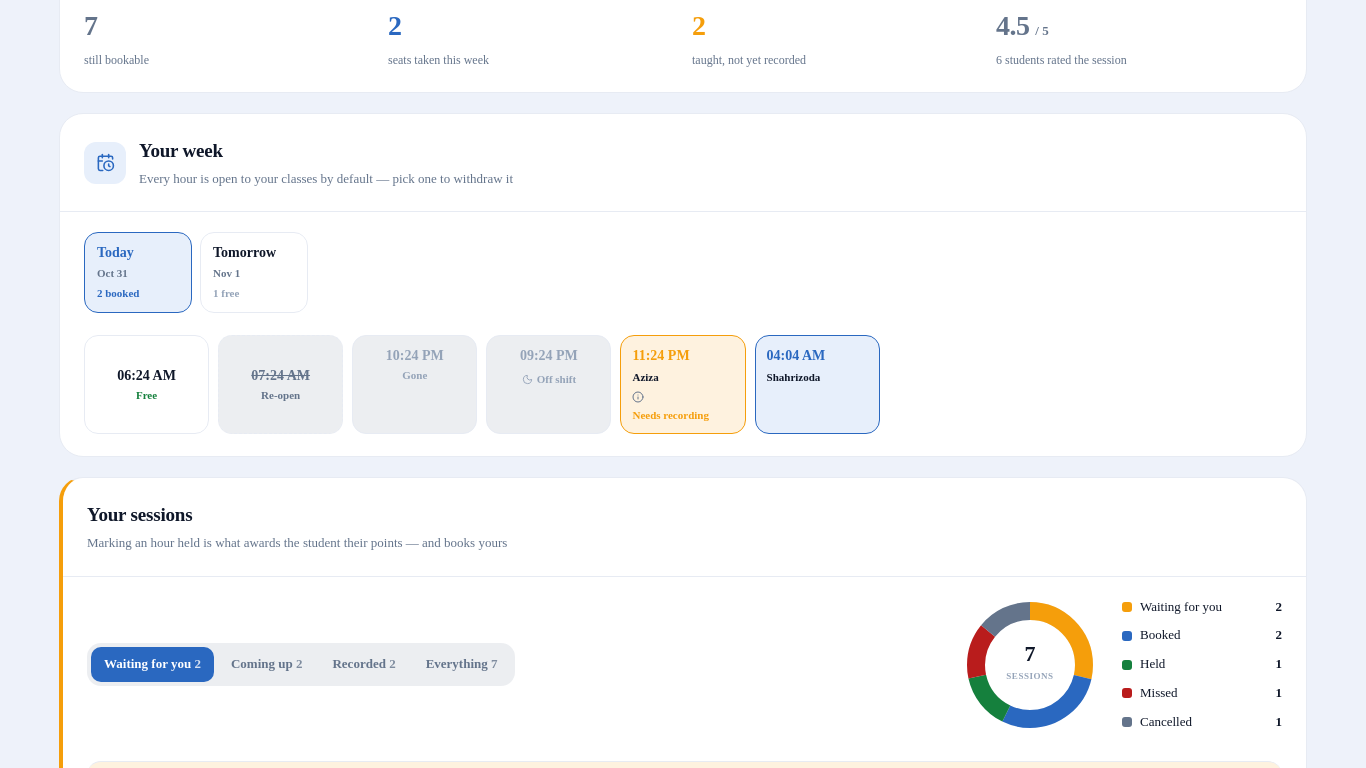
the teacher's week › asks before withdrawing an hour, because withdrawing cancels its bookings
(page scrolled)
Click the button "06:24 AM Free" at coordinates (147, 385), box [84, 335, 209, 434]
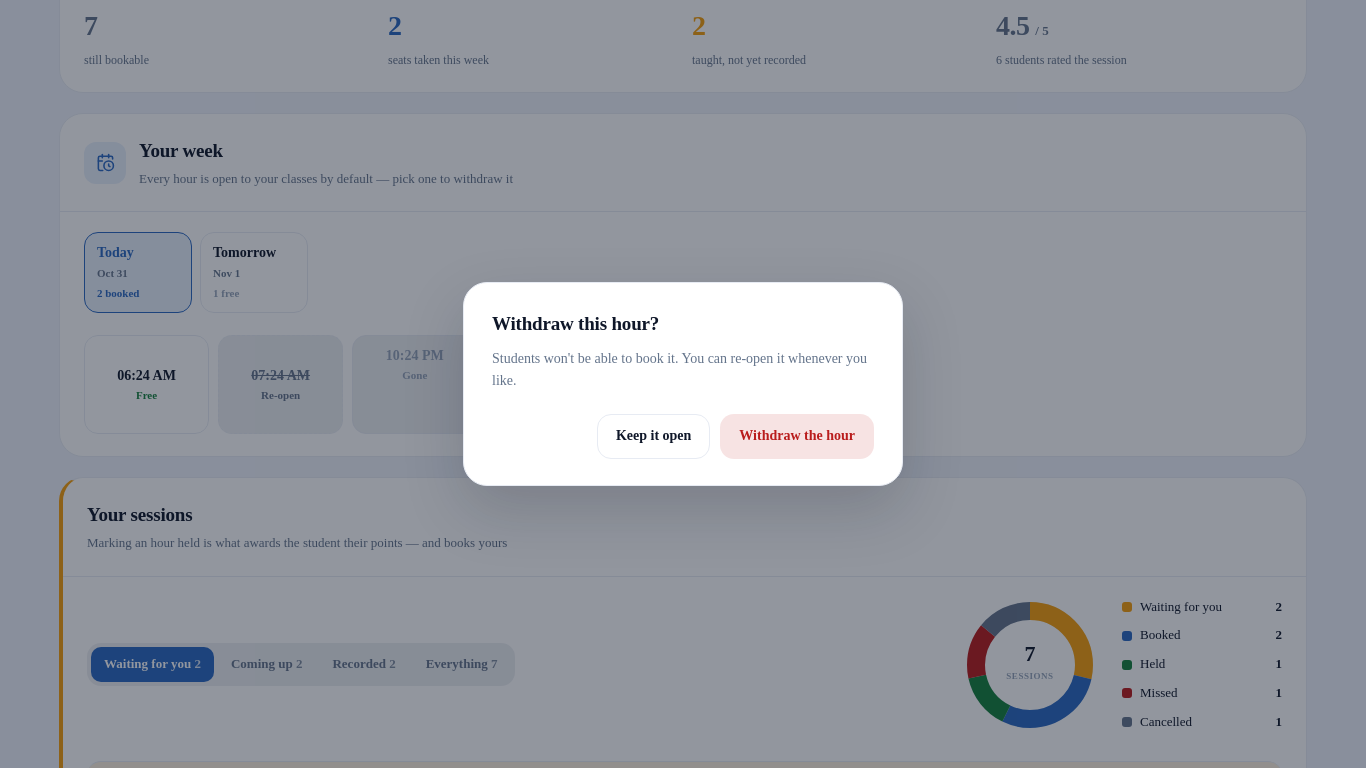
Result: the dialog shows "Withdraw this hour?" at [492, 313, 659, 334]
Result: the button "Keep it open" is shown at [597, 414, 710, 459]
